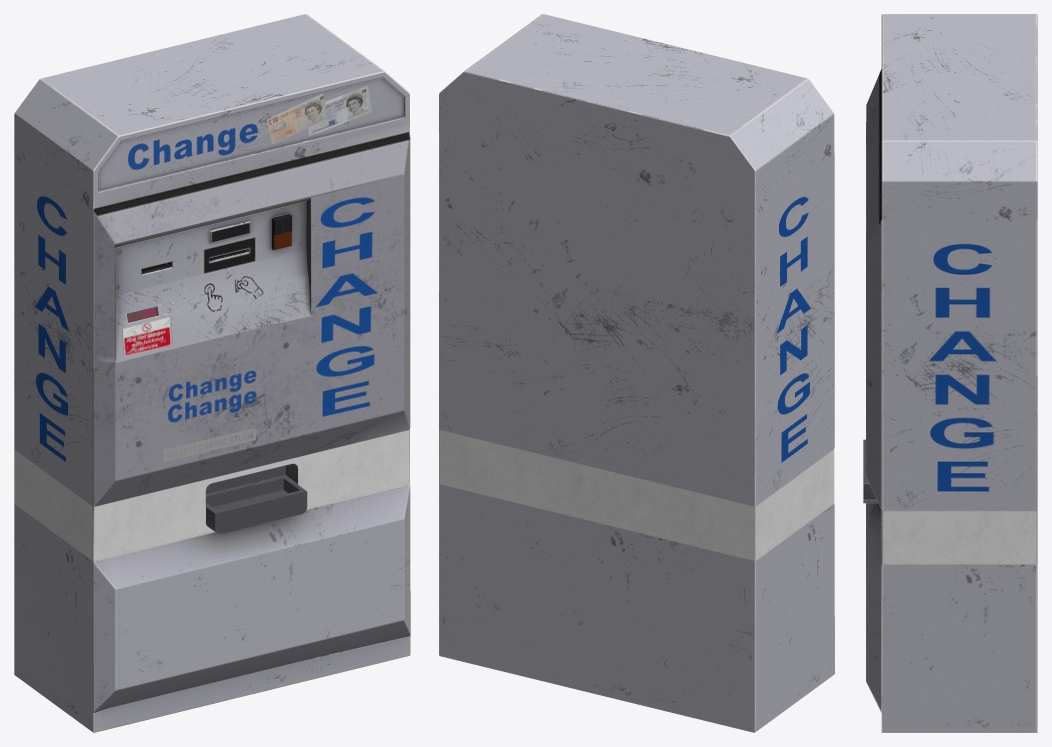
The model's file is change_machine.glb.
The picture shows the model from 3 angles, left to right: view 1: azimuth 30°, elevation 25°; view 2: azimuth 150°, elevation 25°; view 3: azimuth 270°, elevation 25°; orthographic projection.
Visible parts, largest first — view 1: Cube.079_0_3_6; view 2: Cube.079_0_3_6; view 3: Cube.079_0_3_6.
Boxes of the visible parts, x1,y1,x2,y2 form: Cube.079_0_3_6: (14,14,410,732); Cube.079_0_3_6: (439,14,834,732); Cube.079_0_3_6: (863,14,1037,732).
Size of the model in its own units: 1.59 by 2.83 by 0.7721.
1 material, 1 textured.
